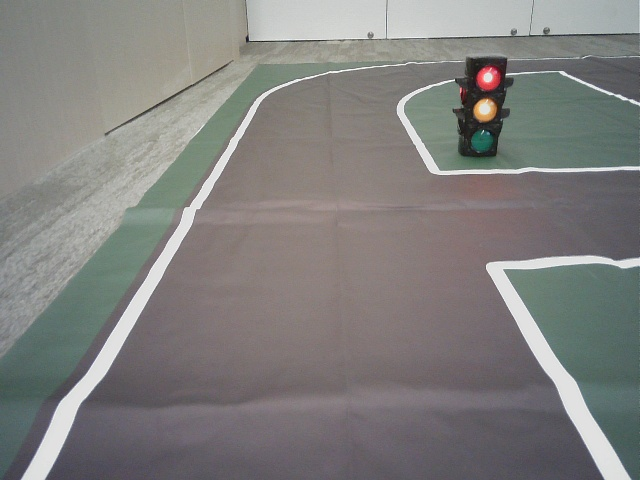red: (467, 60, 501, 151)
